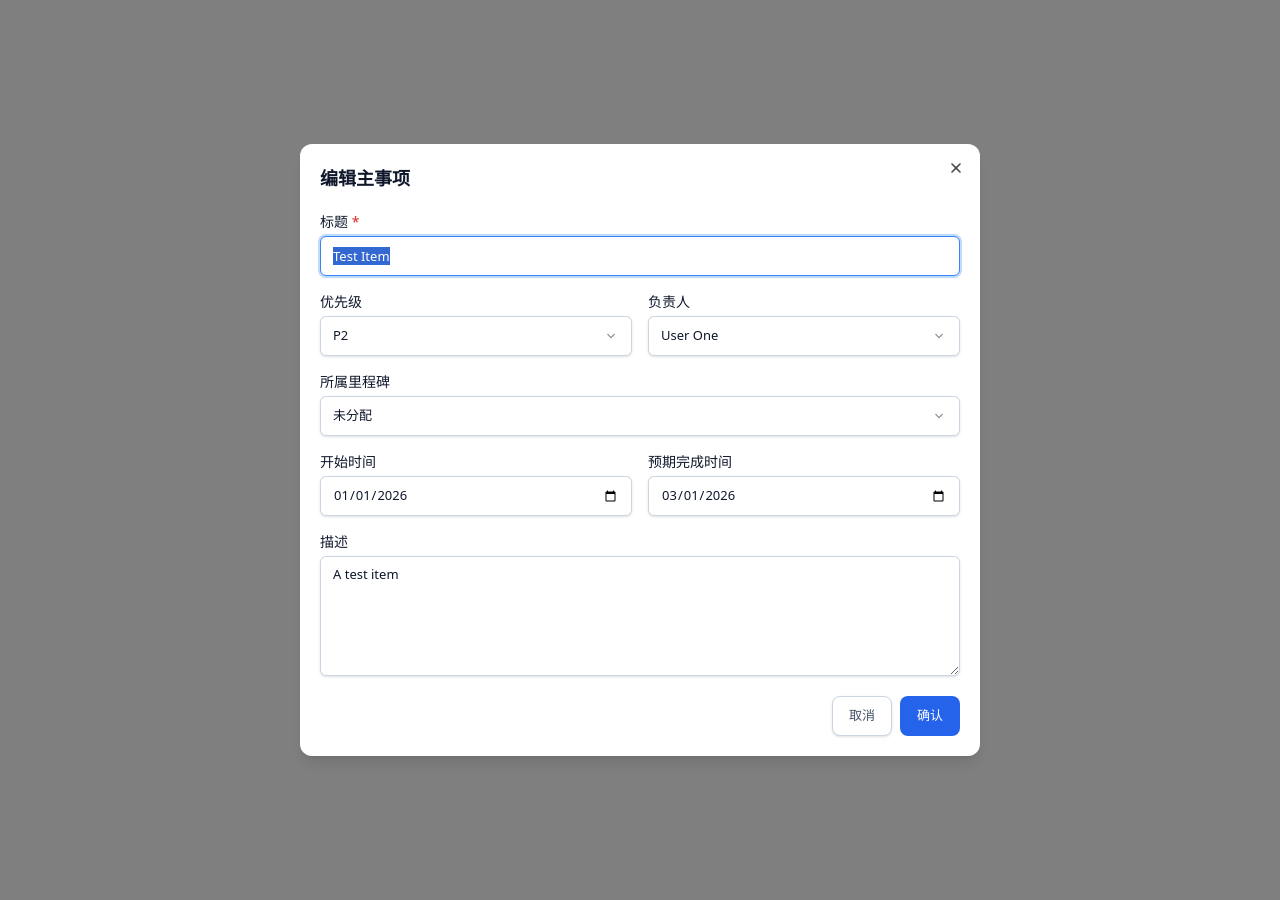
EditMainItemDialog (item-view) — milestone selector › shows only 未分配 option when no milestones exist
The width and height of the screenshot is (1280, 900).
Click the dropdown labelled "未分配" at (353, 415), box [320,396,960,436]
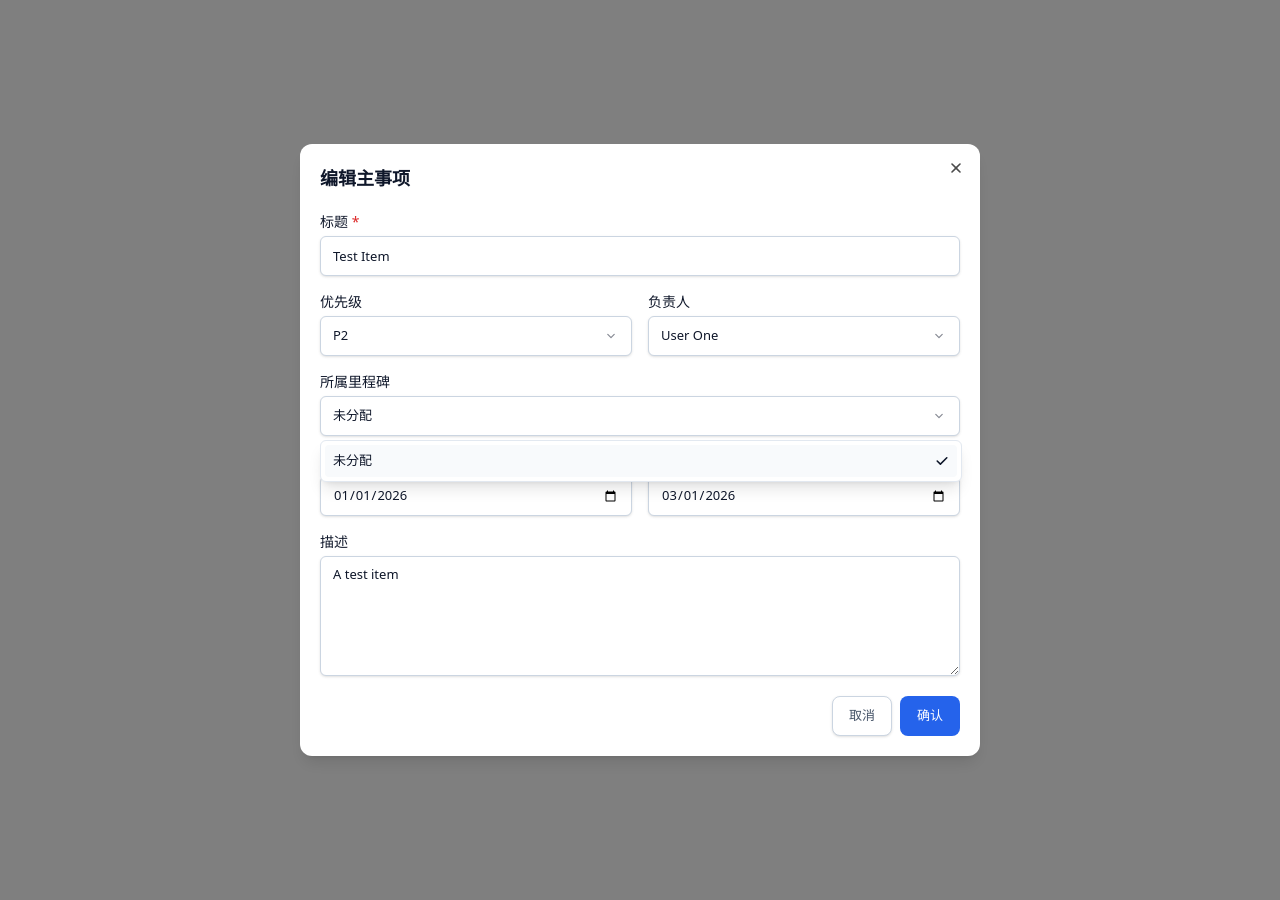
Result: the option "未分配" is shown at [325,445,957,476]
